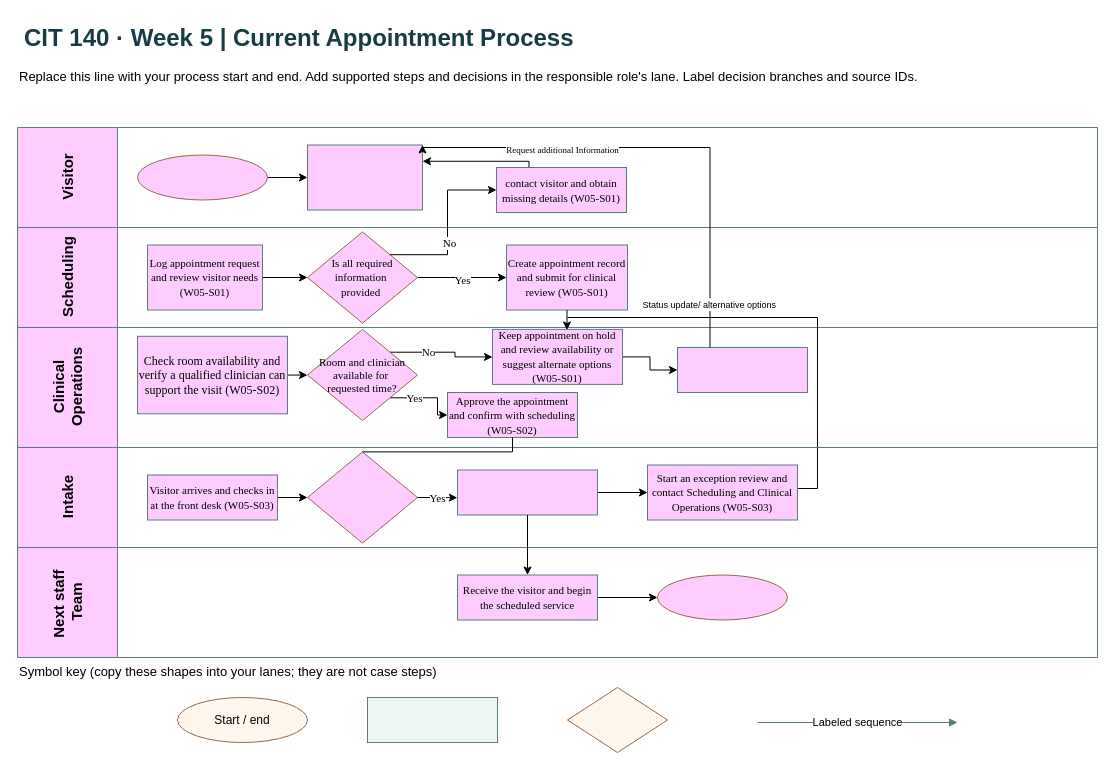
Image size: 1120x770. Some labels were removed from this diagram. Each missing label, with the centre of its shape:
Activity: point (432, 719)
Decision?: point (617, 719)
Does the appointment show as confirmed and ready?: point (362, 497)
End: Appointment process complete: point (722, 597)
Prepare visitor for the visit and notify the next staff team (W05-S03): point (527, 492)
Provide requested date, time and visit preferences: point (364, 177)
Send the updated scheduling with status and possible alternatives (W05-S02): point (742, 369)
Start: Visitor requests an appointment: point (202, 177)
